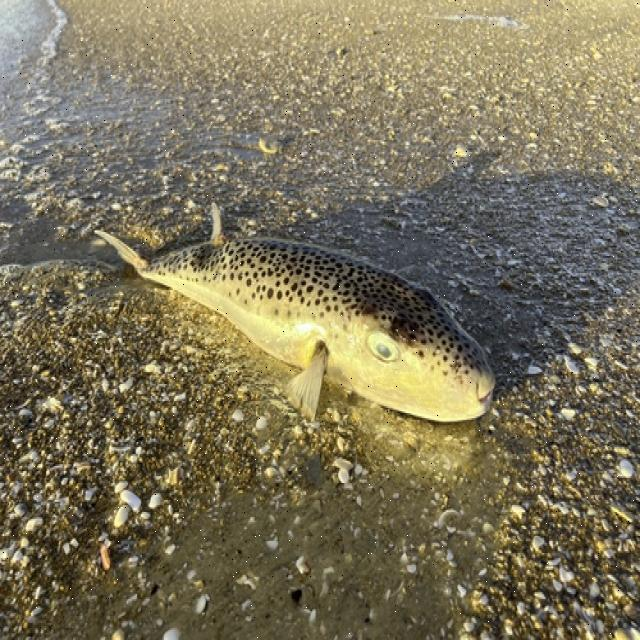Balik: (96, 207, 495, 421)
